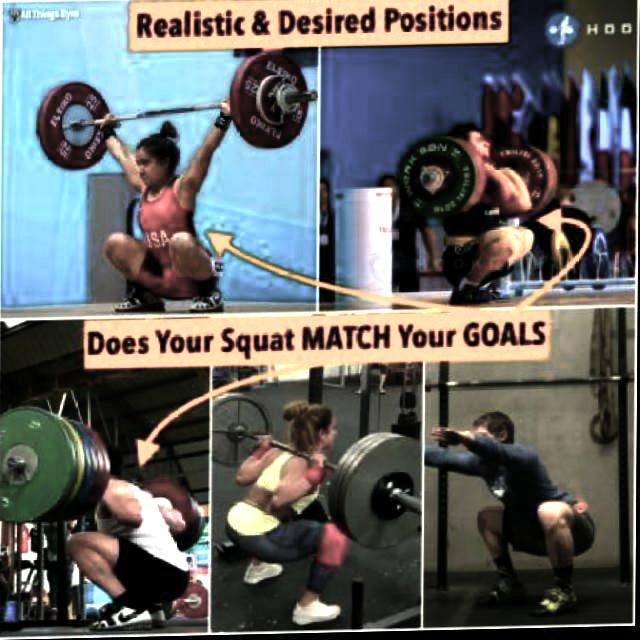barbell: (4, 402, 85, 527), (235, 53, 318, 153), (394, 131, 480, 225)
